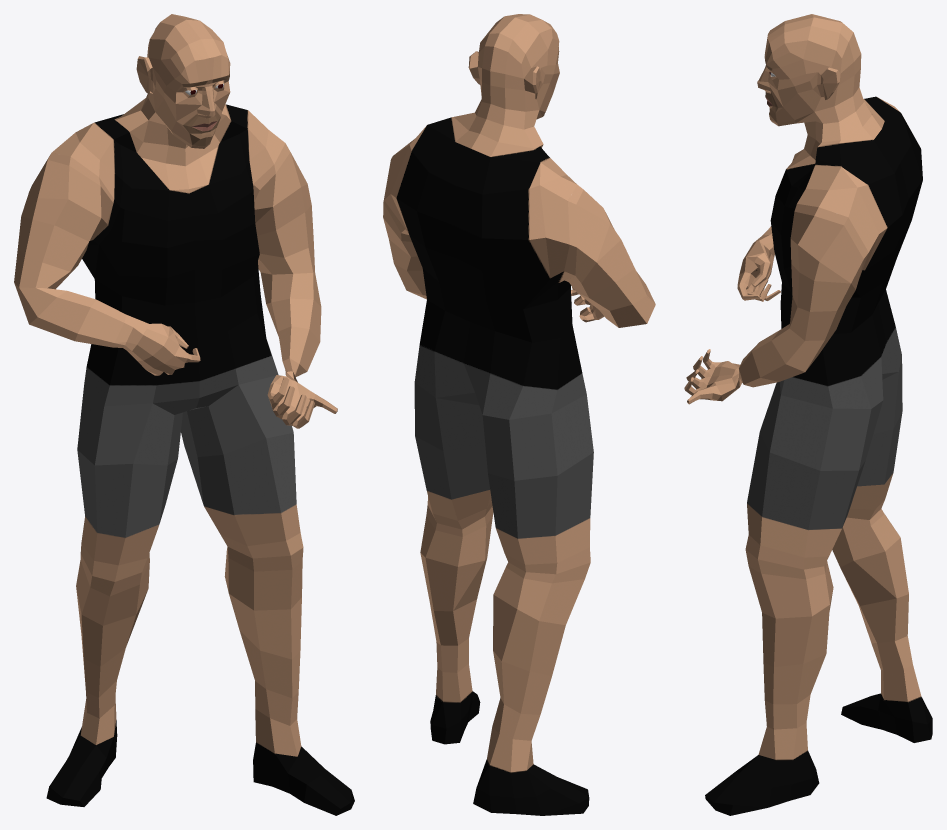
The model's file is PlayerIdle(28).obj.
3 views of the same model, side by side, from view 1: azimuth 30°, elevation 25°; view 2: azimuth 150°, elevation 25°; view 3: azimuth 270°, elevation 25° (orthographic). The views are drawn at different scales.
Visible parts, largest first — view 1: Plane002; view 2: Plane002; view 3: Plane002.
Part boxes in pixels (<box>): Plane002: <box>14,14,354,815</box>; Plane002: <box>383,14,655,815</box>; Plane002: <box>684,14,932,815</box>.
Bounding box in the file's own units: 676 × 1809 × 550.
